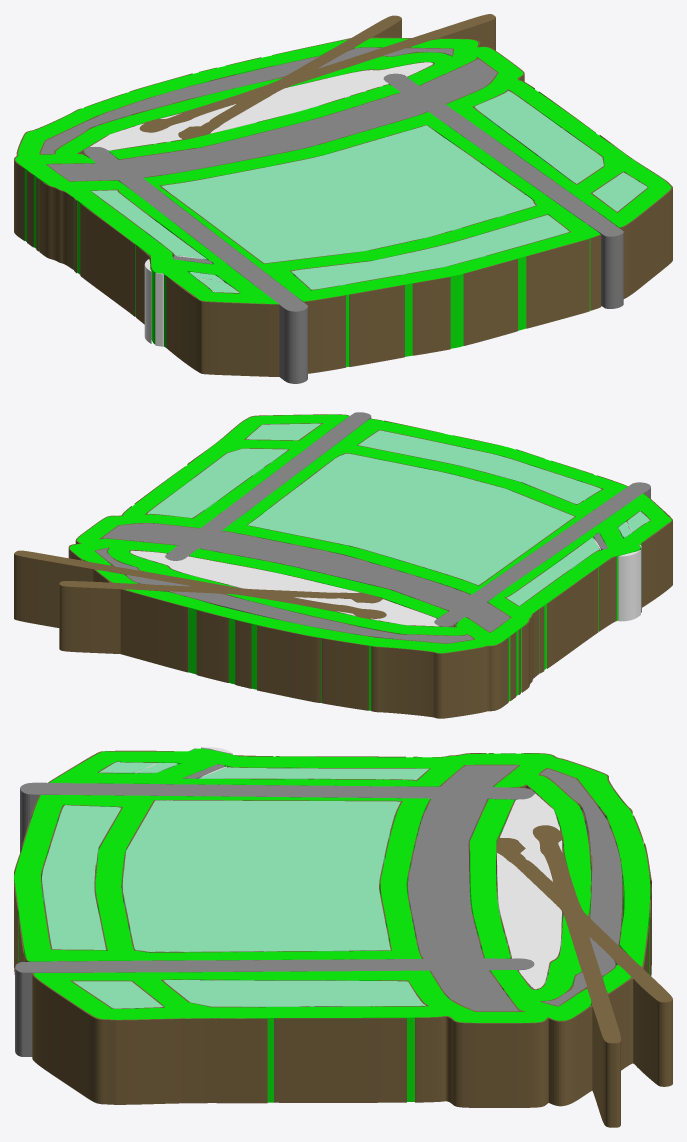
Rendered from drum.glb.
3 views of the same model, one above another, from view 1: azimuth 30°, elevation 25°; view 2: azimuth 150°, elevation 25°; view 3: azimuth 270°, elevation 25° (orthographic). The views are drawn at different scales.
Parts seen in each view (by area): view 1: path4; view 2: path4; view 3: path4.
Part boxes in pixels (box(x1,y1,x2,y2)): path4: box(14, 14, 672, 383); path4: box(14, 412, 672, 718); path4: box(14, 747, 672, 1127).
Size of the model in its own units: 0.045 by 0.00598 by 0.0423.
